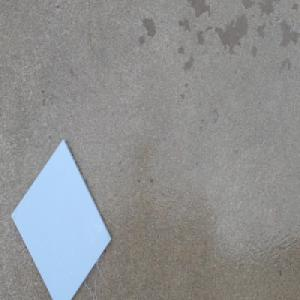PaintChip: (10, 135, 112, 300)
